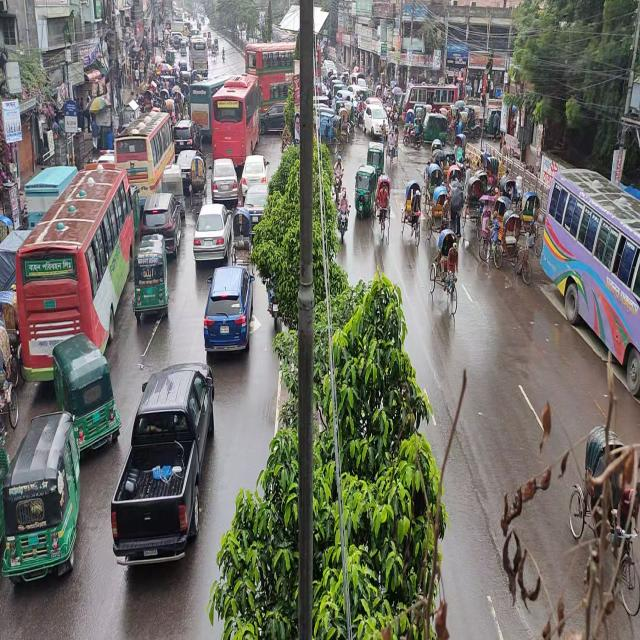black: (114, 358, 217, 574), (140, 190, 188, 257)
